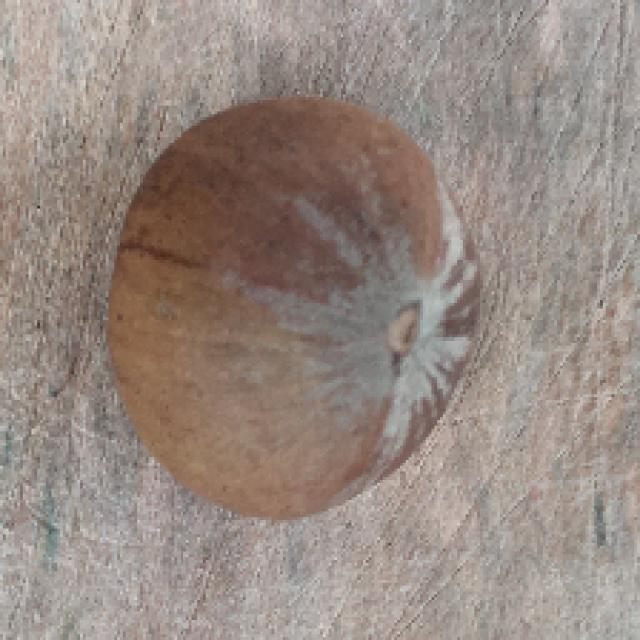qualityHazelnut: (97, 89, 489, 528)
